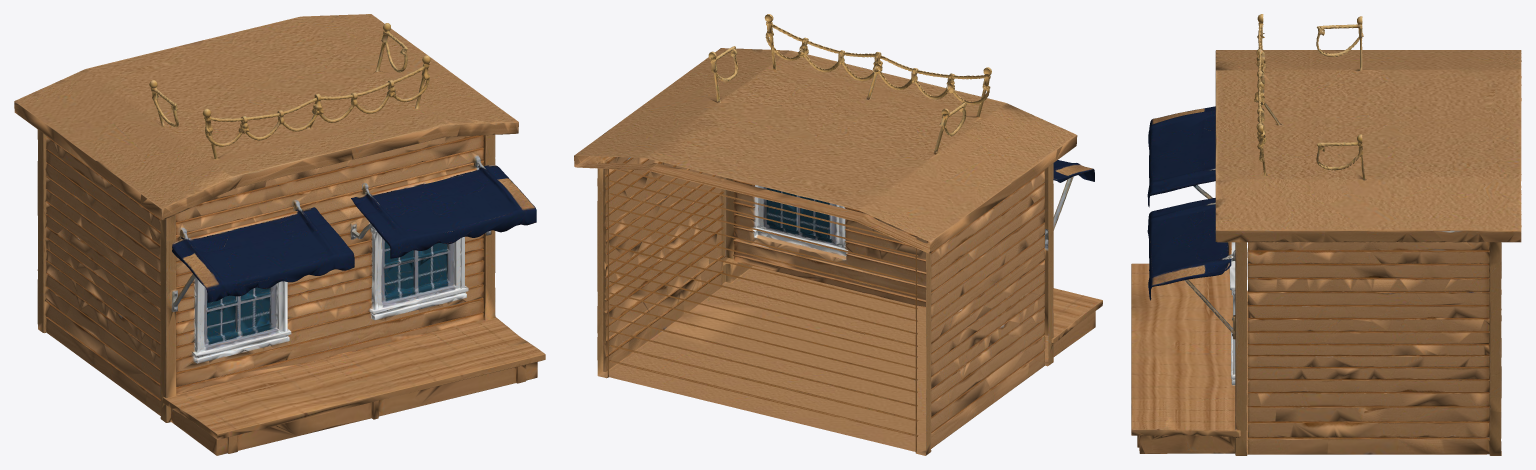
Rendered from pier_bay.glb.
3 views of the same model, side by side, from view 1: azimuth 30°, elevation 25°; view 2: azimuth 150°, elevation 25°; view 3: azimuth 270°, elevation 25° (orthographic). The views are drawn at different scales.
Size of the model in its own units: 1.9 by 1.48 by 1.74.
1 material, 1 textured.
